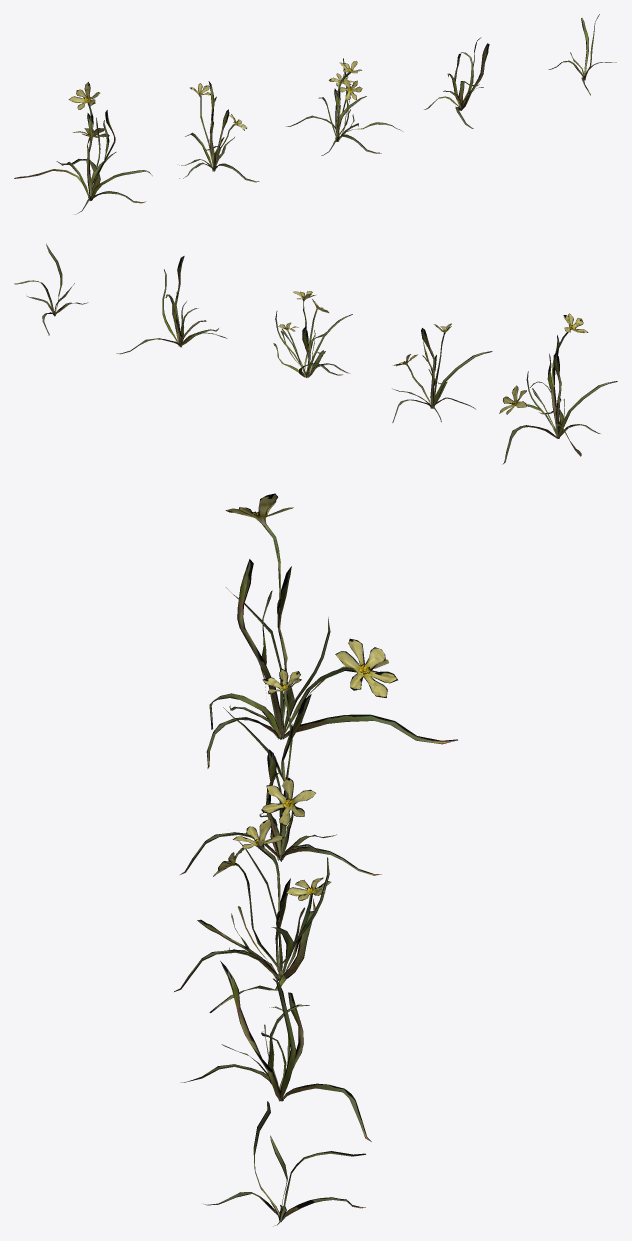
Rendered from flower_empodium.glb.
3 views of the same model, one above another, from view 1: azimuth 30°, elevation 25°; view 2: azimuth 150°, elevation 25°; view 3: azimuth 270°, elevation 25° (orthographic). The views are drawn at different scales.
Visible parts, largest first — view 1: flower_empodium_a_LOD0, flower_empodium_c_LOD0, flower_empodium_b_LOD0, flower_empodium_d_LOD0, flower_empodium_e_LOD0; view 2: flower_empodium_a_LOD0, flower_empodium_c_LOD0, flower_empodium_b_LOD0, flower_empodium_d_LOD0, flower_empodium_e_LOD0; view 3: flower_empodium_a_LOD0, flower_empodium_c_LOD0, flower_empodium_b_LOD0, flower_empodium_d_LOD0, flower_empodium_e_LOD0.
Boxes of the visible parts, x1,y1,x2,y2 form: flower_empodium_a_LOD0: [14, 82, 152, 214]; flower_empodium_c_LOD0: [286, 58, 402, 155]; flower_empodium_b_LOD0: [179, 81, 259, 182]; flower_empodium_d_LOD0: [424, 37, 489, 128]; flower_empodium_e_LOD0: [548, 14, 616, 95]; flower_empodium_a_LOD0: [499, 313, 617, 464]; flower_empodium_c_LOD0: [273, 291, 352, 377]; flower_empodium_b_LOD0: [392, 323, 492, 422]; flower_empodium_d_LOD0: [116, 256, 227, 354]; flower_empodium_e_LOD0: [14, 243, 88, 335]; flower_empodium_a_LOD0: [206, 493, 457, 768]; flower_empodium_c_LOD0: [174, 819, 330, 1012]; flower_empodium_b_LOD0: [180, 669, 381, 875]; flower_empodium_d_LOD0: [180, 961, 371, 1141]; flower_empodium_e_LOD0: [204, 1101, 365, 1226].
Size of the model in its own units: 1.32 by 0.2684 by 0.2837.
Materials: 1 (1 with a texture image).
